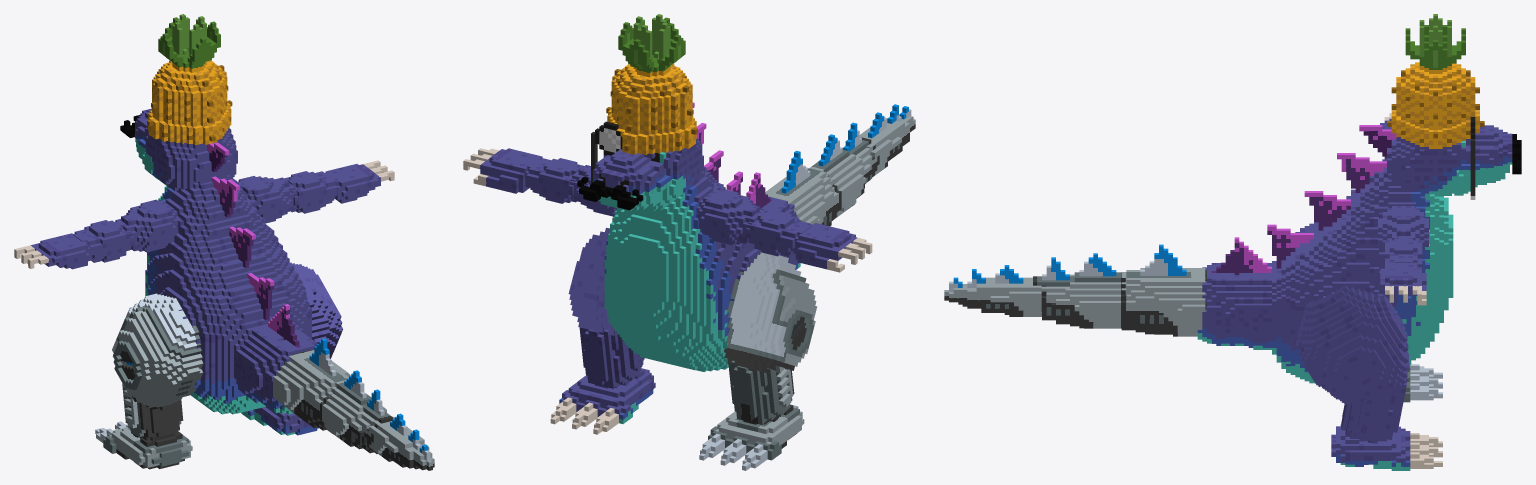
The model's file is mustache_monocle.gltf.
The picture shows the model from 3 angles, left to right: view 1: azimuth 30°, elevation 25°; view 2: azimuth 150°, elevation 25°; view 3: azimuth 270°, elevation 25°; orthographic projection. The views are drawn at different scales.
Parts seen in each view (by area): view 1: Body-Local, Skull-Local, Upper_Leg_L-Local, Tail_01-Local, Tail_02-Local, Tail_03-Local, Feet_L-Local, Tail_04-Local, Upper_Arm_L-Local, Upper_Leg_R-Local, Claw_L-Local, Lower_Leg_L-Local (+5 smaller); view 2: Body-Local, Skull-Local, Upper_Leg_L-Local, Feet_L-Local, Feet_R-Local, Lower_Leg_L-Local, Tail_02-Local, Tail_03-Local, Upper_Leg_R-Local, Lower_Leg_R-Local, Upper_Arm_L-Local, Claw_L-Local (+9 smaller); view 3: Body-Local, Skull-Local, Upper_Leg_R-Local, Tail_01-Local, Tail_02-Local, Tail_03-Local, Tail_04-Local, Feet_R-Local, Lower_Leg_R-Local, Upper_Arm_R-Local, Claw_R-Local, Feet_L-Local (+2 smaller).
Part boxes in pixels (x1,y1,x2,y2): Body-Local: [145, 175, 311, 414]; Skull-Local: [135, 14, 237, 190]; Upper_Leg_L-Local: [112, 293, 203, 409]; Tail_01-Local: [234, 304, 317, 414]; Tail_02-Local: [273, 338, 350, 434]; Tail_03-Local: [322, 370, 393, 453]; Feet_L-Local: [95, 421, 192, 469]; Tail_04-Local: [367, 413, 434, 470]; Upper_Arm_L-Local: [115, 199, 179, 252]; Upper_Leg_R-Local: [290, 262, 342, 358]; Claw_L-Local: [14, 233, 91, 269]; Lower_Leg_L-Local: [122, 383, 183, 441]; Body-Local: [604, 123, 783, 371]; Skull-Local: [593, 14, 703, 205]; Upper_Leg_L-Local: [724, 251, 817, 373]; Feet_L-Local: [699, 404, 804, 470]; Feet_R-Local: [550, 368, 655, 434]; Lower_Leg_L-Local: [728, 358, 794, 424]; Tail_02-Local: [765, 150, 841, 226]; Tail_03-Local: [812, 122, 879, 219]; Upper_Leg_R-Local: [568, 227, 615, 335]; Lower_Leg_R-Local: [579, 326, 644, 388]; Upper_Arm_L-Local: [696, 188, 766, 245]; Claw_L-Local: [794, 223, 872, 272]; Body-Local: [1267, 153, 1453, 383]; Skull-Local: [1359, 14, 1512, 195]; Upper_Leg_R-Local: [1296, 285, 1409, 405]; Tail_01-Local: [1197, 237, 1276, 349]; Tail_02-Local: [1121, 244, 1206, 336]; Tail_03-Local: [1033, 253, 1125, 328]; Tail_04-Local: [944, 265, 1046, 316]; Feet_R-Local: [1331, 424, 1442, 470]; Lower_Leg_R-Local: [1341, 377, 1407, 443]; Upper_Arm_R-Local: [1378, 206, 1428, 250]; Claw_R-Local: [1380, 261, 1426, 305]; Feet_L-Local: [1403, 364, 1442, 402].
Bounding box in the file's own units: 92.22 × 95.29 × 124.
21 materials, 21 textured.
